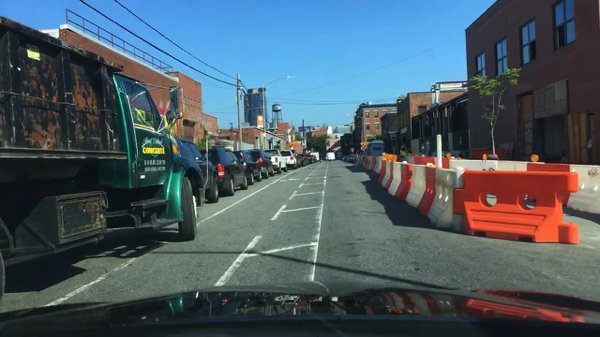car: (176, 139, 219, 203), (197, 147, 249, 197), (233, 149, 263, 184), (247, 148, 277, 178), (263, 148, 287, 173), (279, 150, 296, 170), (324, 151, 337, 162), (299, 152, 309, 166), (294, 155, 303, 168), (352, 152, 360, 164), (357, 153, 364, 165), (346, 153, 354, 163), (289, 149, 300, 156), (308, 155, 315, 164), (343, 154, 349, 163), (312, 154, 317, 163), (339, 154, 346, 160)
person: (397, 150, 407, 162), (400, 144, 408, 153)
traffic sign: (359, 140, 367, 147), (289, 140, 295, 147)
truck: (0, 14, 205, 300)
